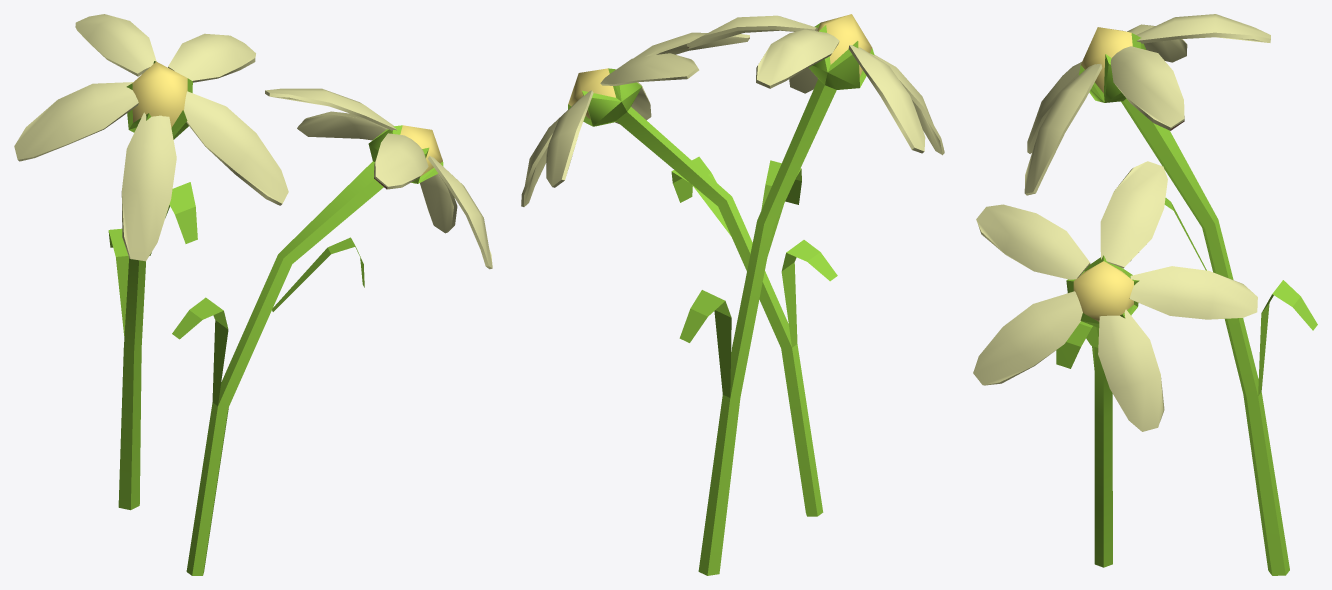
File: Flower_A.FBX
3 renders of one model, left to right at view 1: azimuth 30°, elevation 25°; view 2: azimuth 150°, elevation 25°; view 3: azimuth 270°, elevation 25°, orthographic. The views are drawn at different scales.
Visible parts, largest first — view 1: Flower_A; view 2: Flower_A; view 3: Flower_A.
Boxes of the visible parts, bbox=[...] form: Flower_A: bbox=[14, 14, 492, 575]; Flower_A: bbox=[521, 14, 944, 575]; Flower_A: bbox=[973, 14, 1317, 575].
Size of the model in its own units: 455 by 546 by 321.
